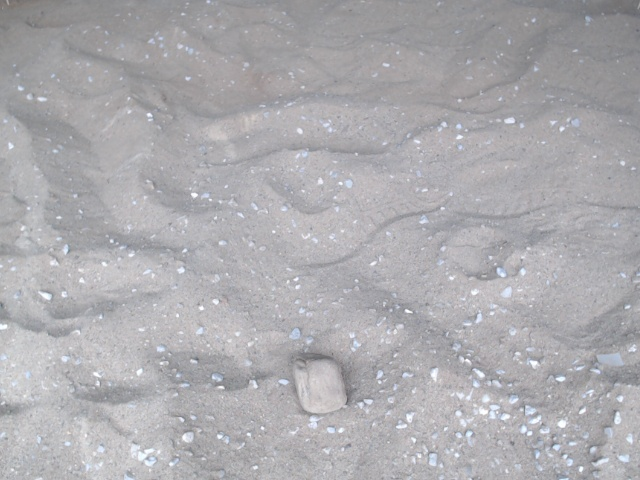rock: (283, 346, 354, 421)
